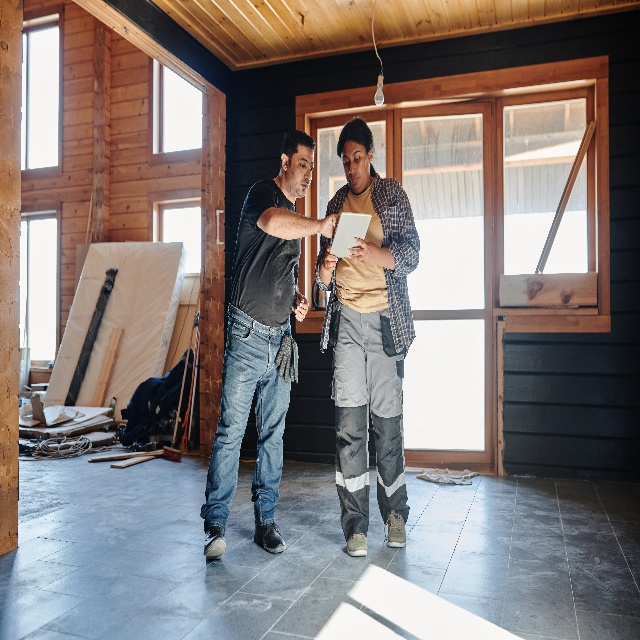Guantes: (275, 333, 295, 383), (289, 337, 299, 384)
Sin_guantes: (348, 236, 379, 265), (320, 214, 339, 239), (294, 293, 309, 321), (324, 245, 338, 272)
